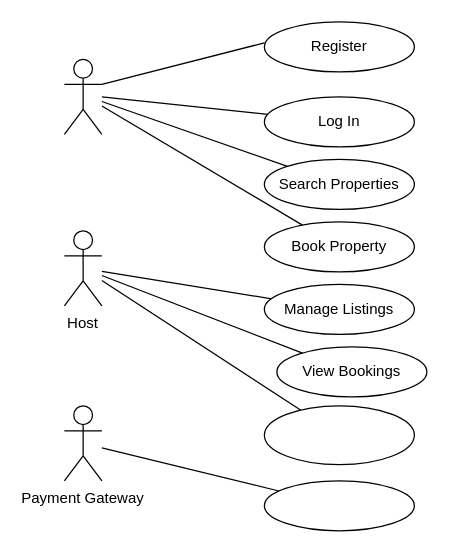
Some shapes in this 449 by 554 pixel diagram are drawn without their labels. Each missing label, with the centre of its shape:
"Accept Booking" belongs at [338,434].
"Process Payment" belongs at [338,505].
"User" belongs at [82,96].
